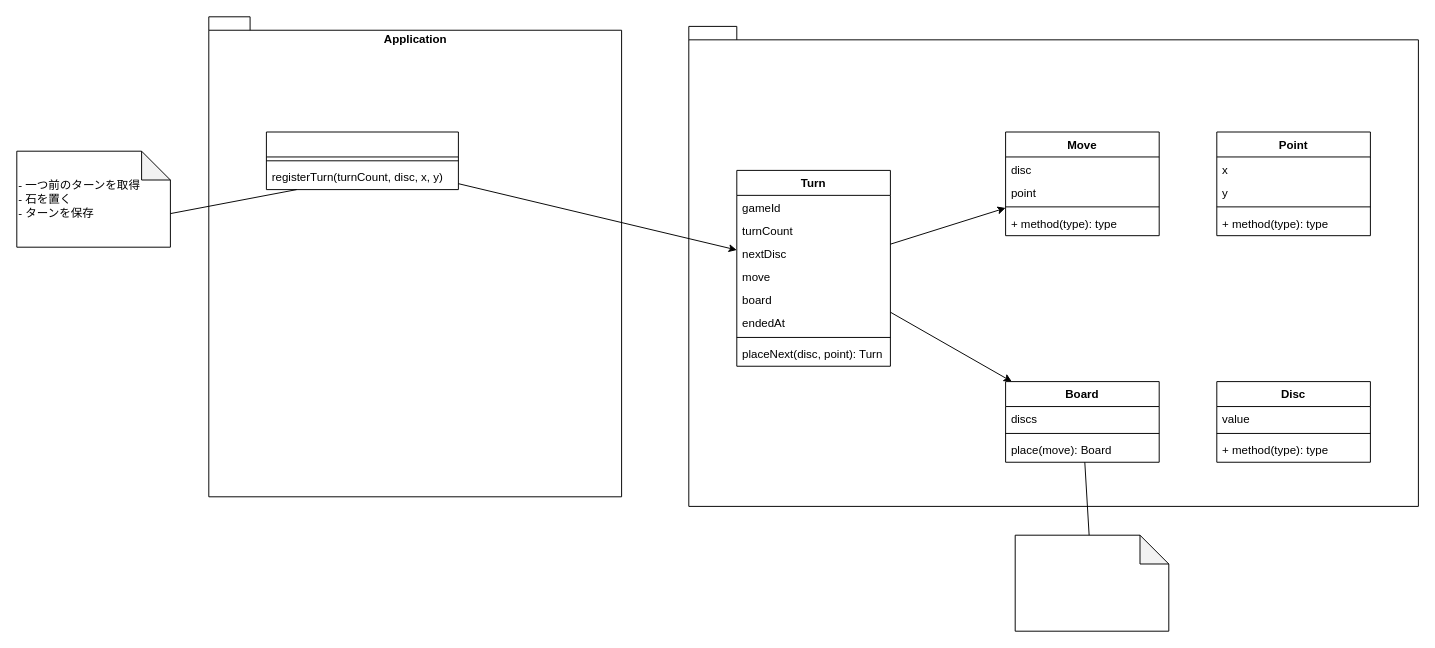
Some shapes in this 1435 by 648 pixel diagram are drawn without their labels. The box of each missing label's shape, as (x1, y1, x2, y2) in pixels:
- 石を置けるかチェック - 石を置く - ひっくりかえす: (1014, 534, 1169, 631)
Domain: (688, 25, 1418, 506)
TurnService: (265, 131, 458, 190)
